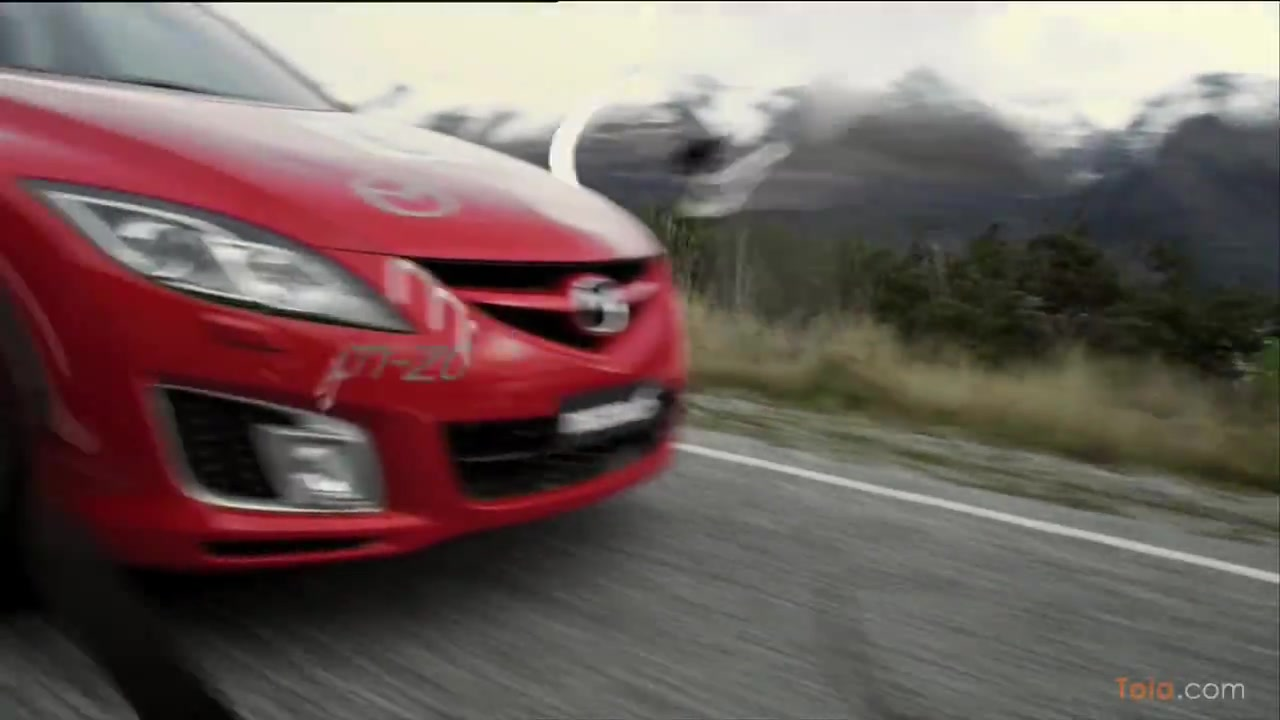car: (1, 1, 685, 582)
